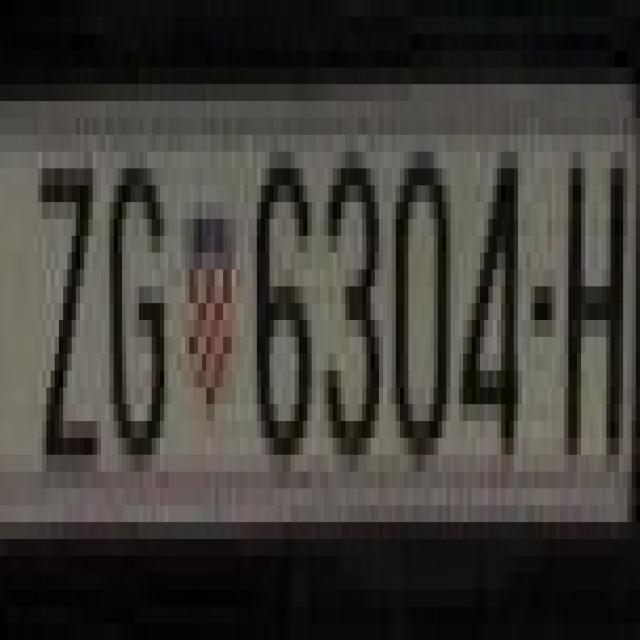0: (392, 134, 446, 422)
3: (328, 135, 379, 438)
4: (463, 135, 526, 438)
6: (248, 134, 308, 454)
G: (105, 134, 164, 454)
H: (560, 118, 628, 438)
Z: (42, 134, 105, 454)
